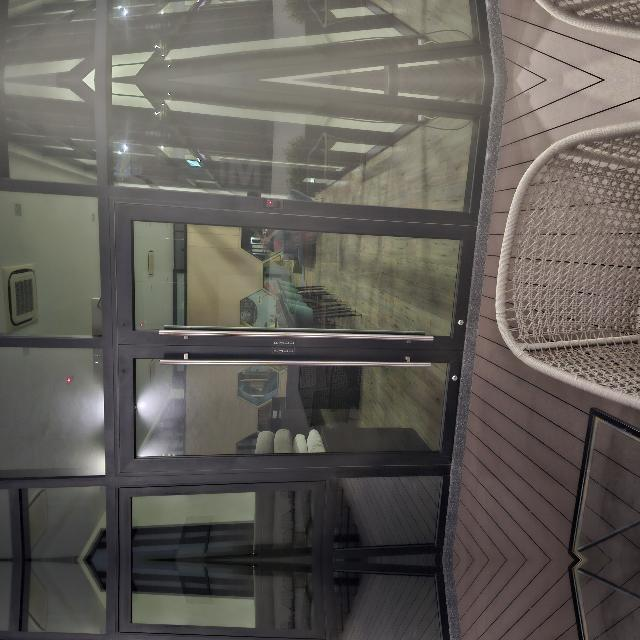door: (83, 189, 354, 559), (83, 561, 354, 640)
obstacle: (146, 400, 450, 552), (145, 568, 450, 640), (2, 400, 148, 486), (1, 634, 148, 640)
